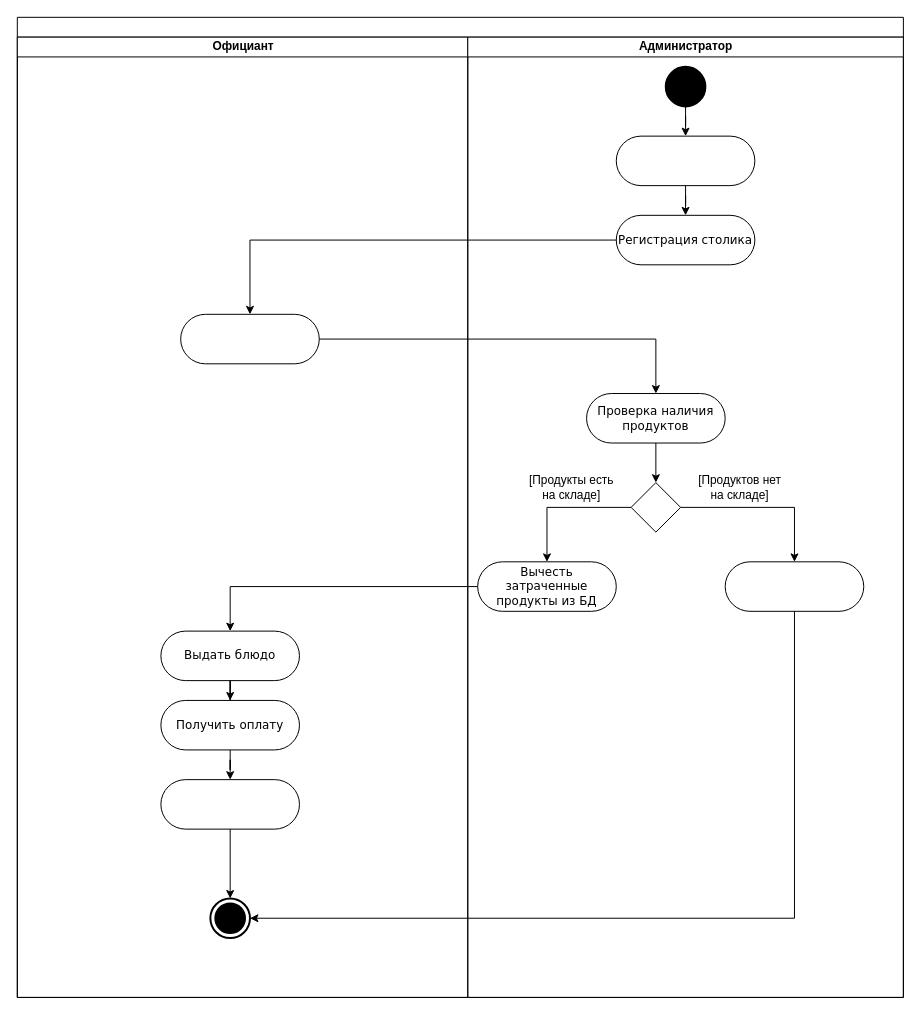
This 921x1015 diagram has some shape labels left out. Here are the shapes that lost their labels. From the top down, the centre of each, then its label:
At (x=685, y=160): "Получение данных клиента".
At (x=249, y=338): "Внесение заказа клиента в БД".
At (x=794, y=586): "Заказать недостающие продукты".
At (x=229, y=804): "Сформировать чек".
